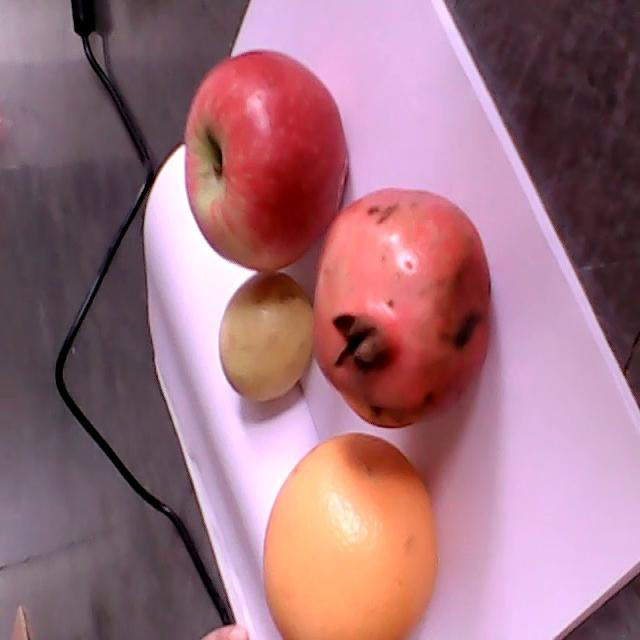apple: (184, 51, 349, 272)
lemon: (219, 274, 316, 400)
orange: (261, 431, 438, 639)
pomegranate: (311, 189, 491, 426)
